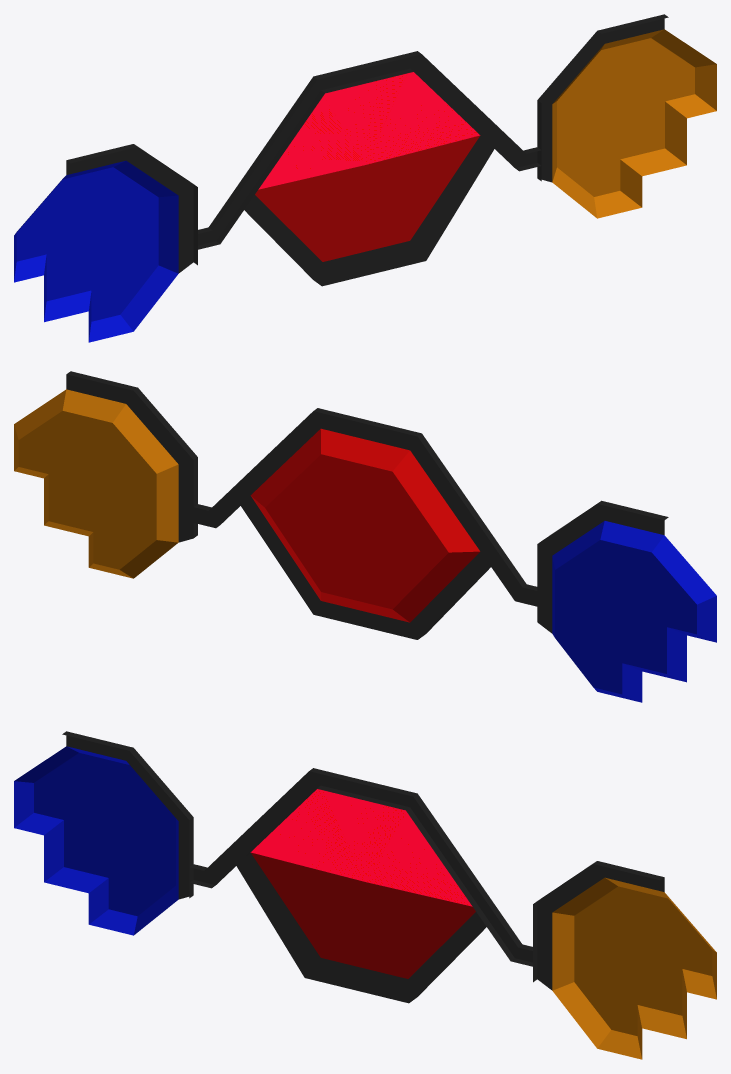
The model's file is tcg-card-frame-character-stats.glb.
3 views of the same model, one above another, from view 1: azimuth 30°, elevation 25°; view 2: azimuth 150°, elevation 25°; view 3: azimuth 330°, elevation 25° (orthographic).
Parts seen in each view (by area): view 1: card-attribute-health, card-frame-character, card-attribute-defense, card-attribute-attack; view 2: card-attribute-health, card-frame-character, card-attribute-defense, card-attribute-attack; view 3: card-attribute-health, card-frame-character, card-attribute-attack, card-attribute-defense.
Part boxes in pixels (left/top/right/bottom): card-attribute-health: left=255, top=72, right=480, bottom=261; card-frame-character: left=66, top=14, right=668, bottom=286; card-attribute-defense: left=14, top=160, right=178, bottom=342; card-attribute-attack: left=552, top=29, right=716, bottom=218; card-attribute-health: left=250, top=428, right=480, bottom=622; card-frame-character: left=66, top=371, right=668, bottom=639; card-attribute-defense: left=552, top=521, right=716, bottom=702; card-attribute-attack: left=14, top=389, right=178, bottom=578; card-attribute-health: left=250, top=789, right=475, bottom=978; card-frame-character: left=62, top=731, right=664, bottom=1003; card-attribute-attack: left=552, top=877, right=716, bottom=1059; card-attribute-defense: left=14, top=746, right=178, bottom=935.
Bounding box in the file's own units: 2.35 × 0.675 × 0.1.
Materials: 2 (2 with a texture image).
